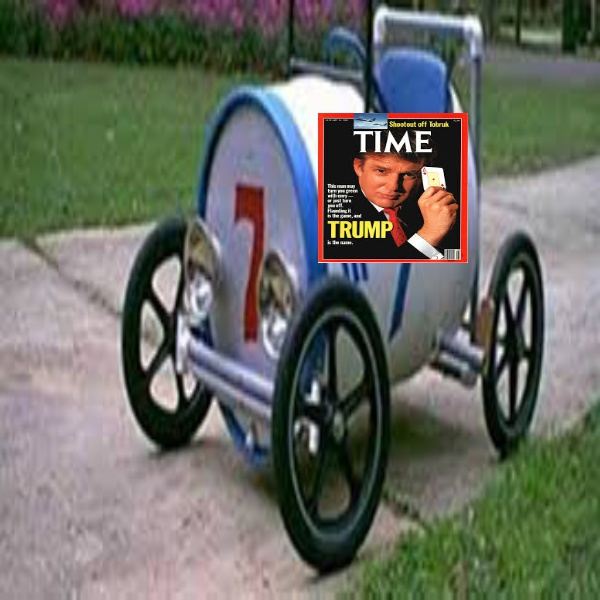time_cover: (315, 107, 468, 259)
